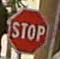stop: (8, 7, 49, 54)
